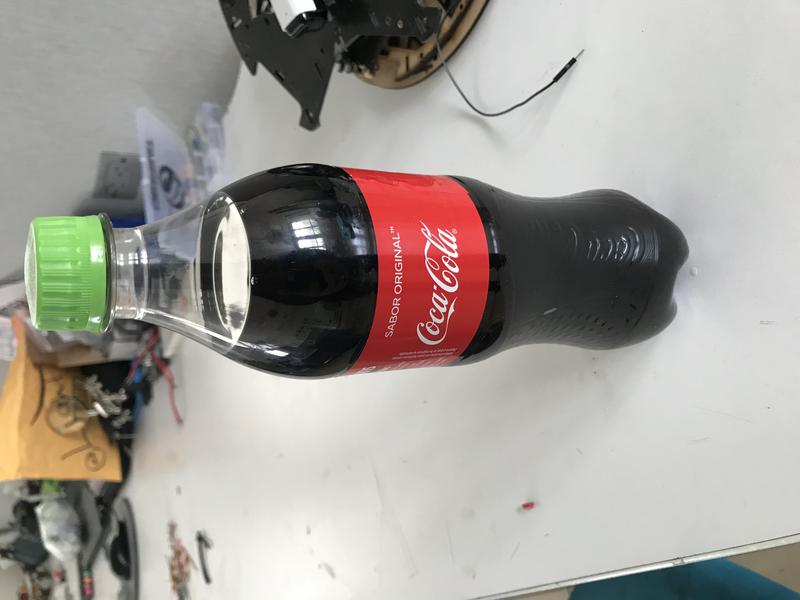coca_cola: (23, 163, 692, 380)
